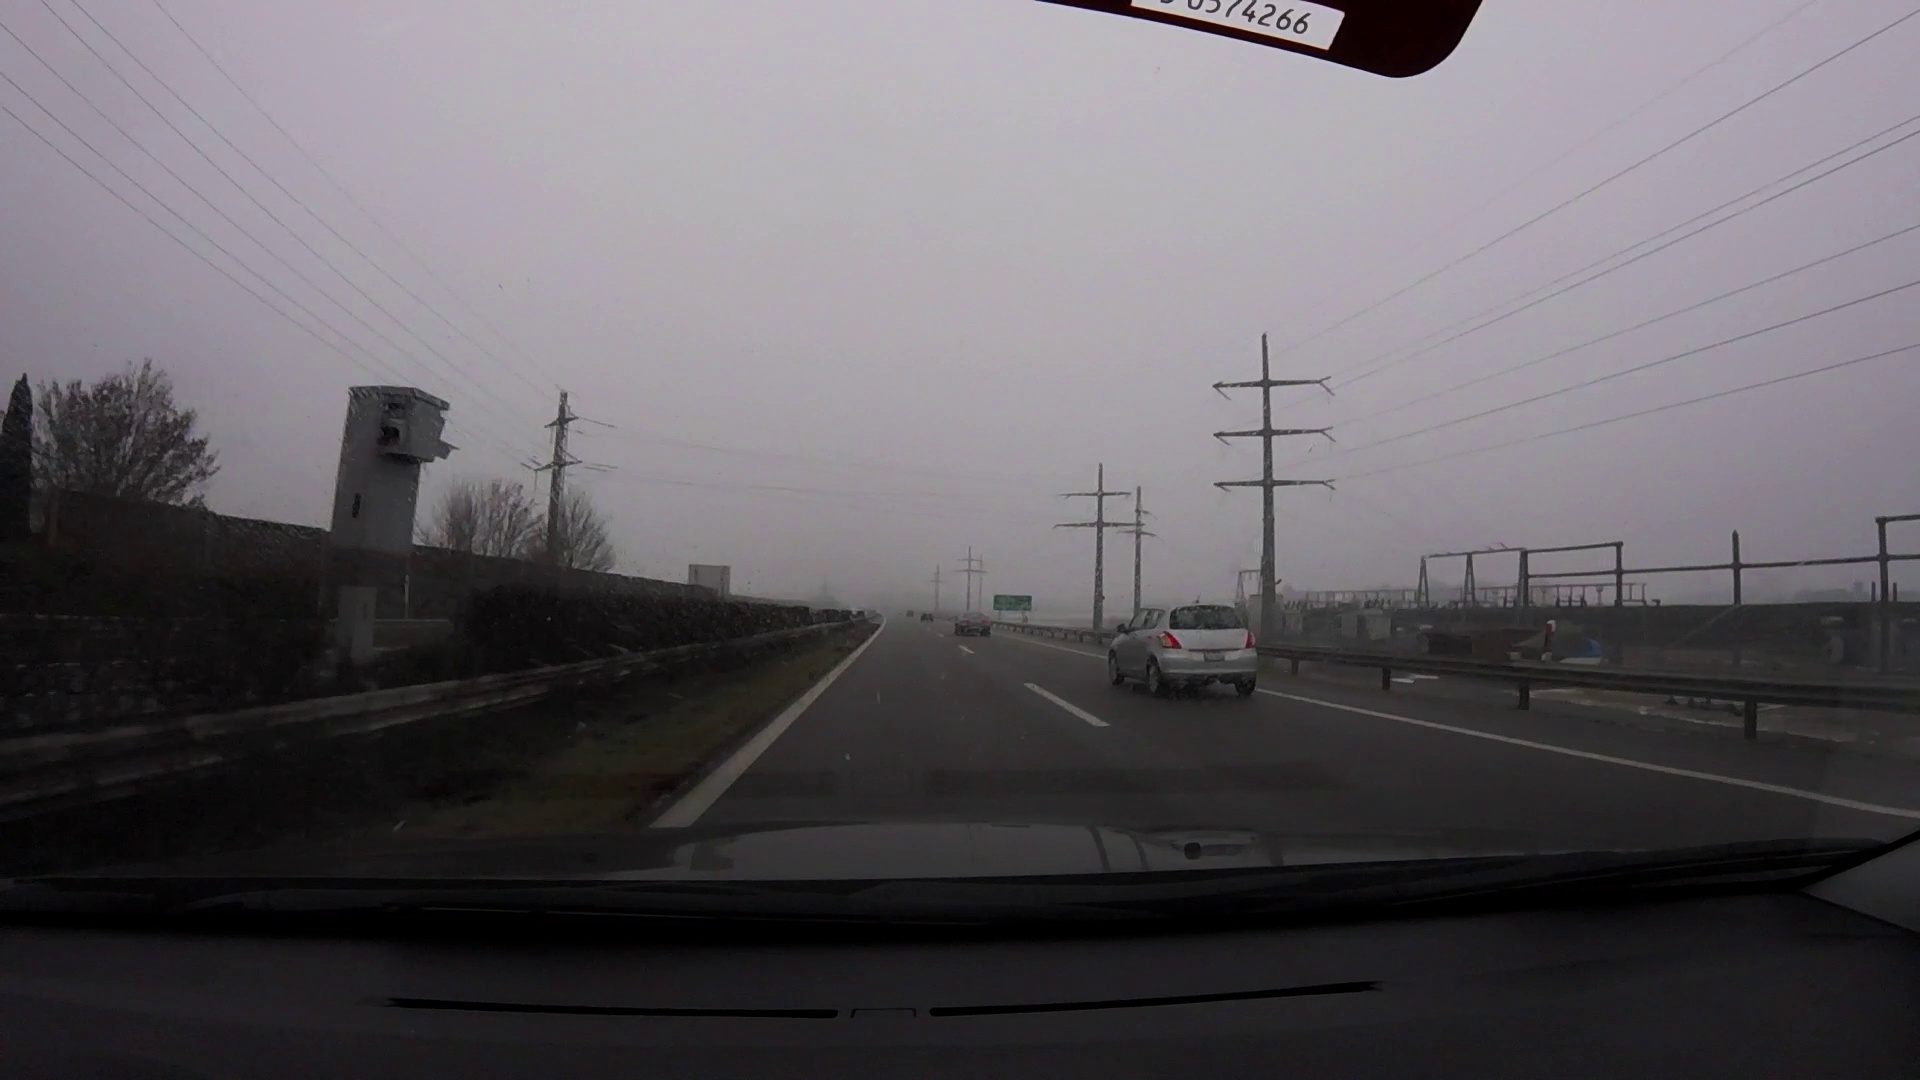radar: (322, 382, 462, 624)
